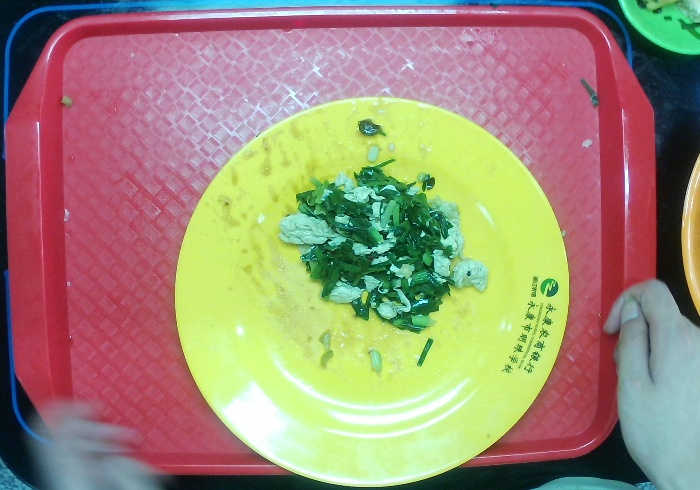YKMZ-Huang_Se_Mian_Pan: (174, 94, 574, 490)
